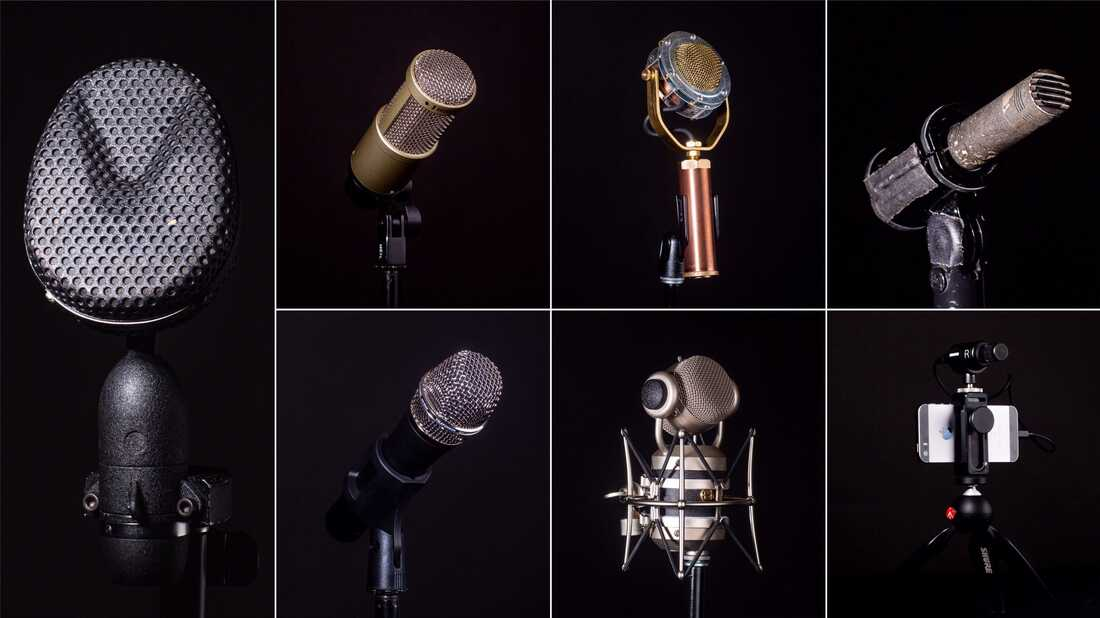microphone: (15, 40, 240, 618), (865, 57, 1075, 305), (598, 352, 773, 618), (315, 342, 509, 554), (632, 21, 746, 290), (346, 46, 482, 198), (934, 332, 1013, 379)
